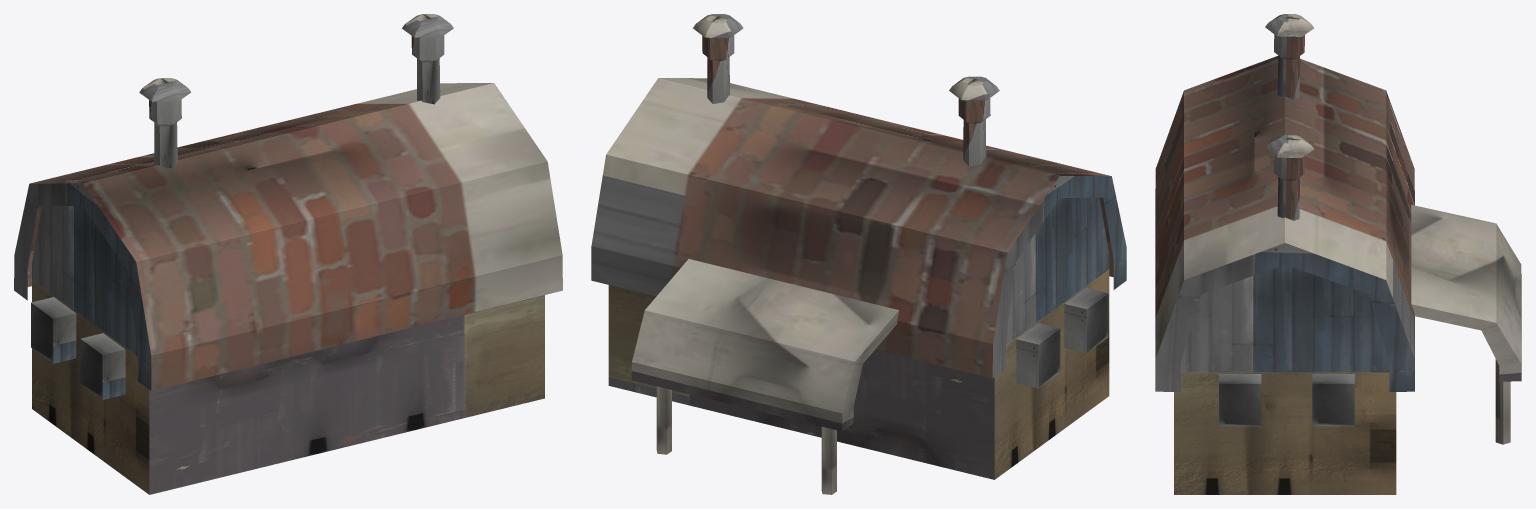
Rendered from medium_house.obj.
The picture shows the model from 3 angles, left to right: view 1: azimuth 30°, elevation 25°; view 2: azimuth 150°, elevation 25°; view 3: azimuth 270°, elevation 25°; orthographic projection. The views are drawn at different scales.
Parts seen in each view (by area): view 1: mintank1; view 2: mintank1; view 3: mintank1.
Boxes of the visible parts, <box> form: mintank1: <box>14,14,562,494</box>; mintank1: <box>591,14,1126,494</box>; mintank1: <box>1155,14,1521,494</box>.
Size of the model in its own units: 1341 by 1019 by 1024.
